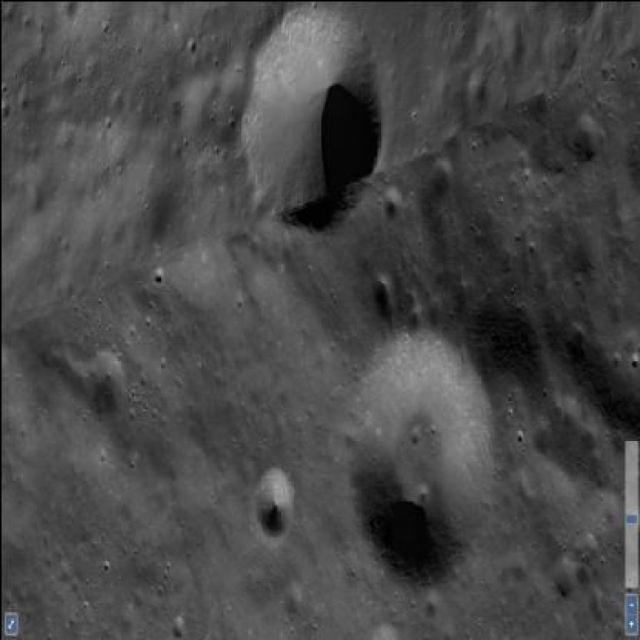crater: (344, 329, 496, 582), (242, 2, 380, 230), (251, 468, 292, 542)
